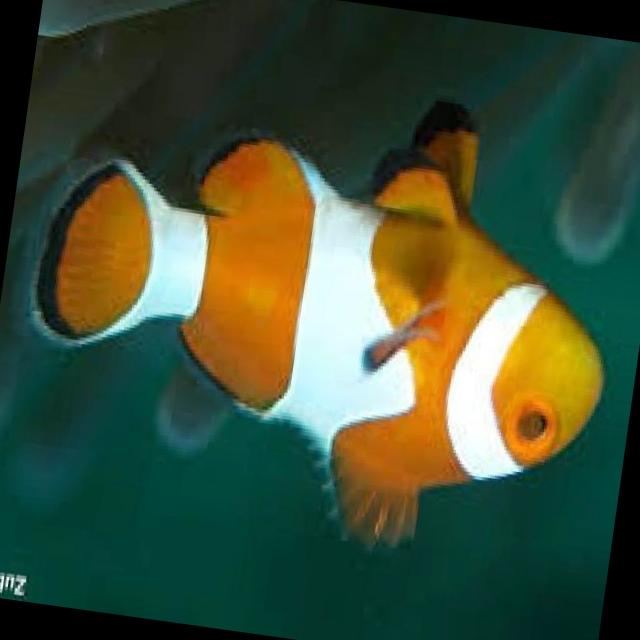ClownFish: (4, 46, 640, 580)
